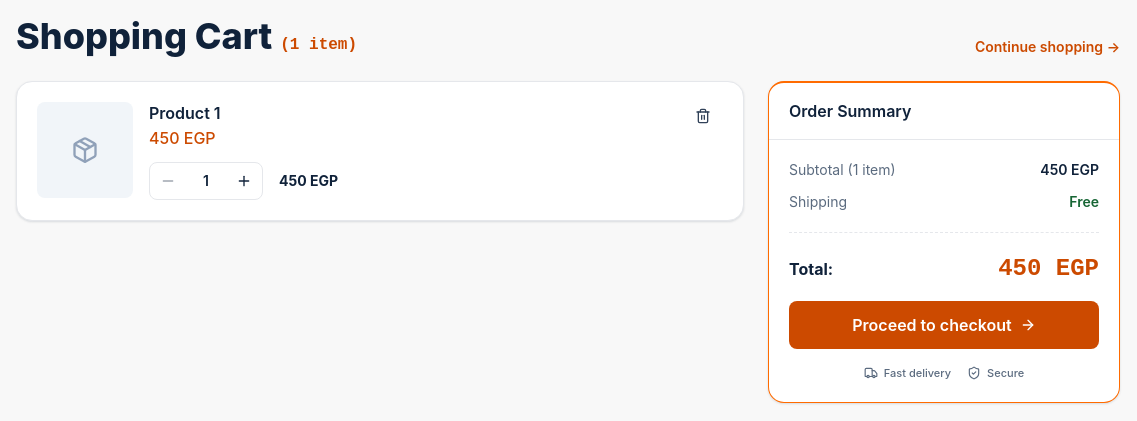
Cart page › adds one with the stepper, up to maxOrderable
This screenshot has width=1137, height=421.
Click the button named "increase quantity of product 1" at (244, 181), box [226,163,262,199]
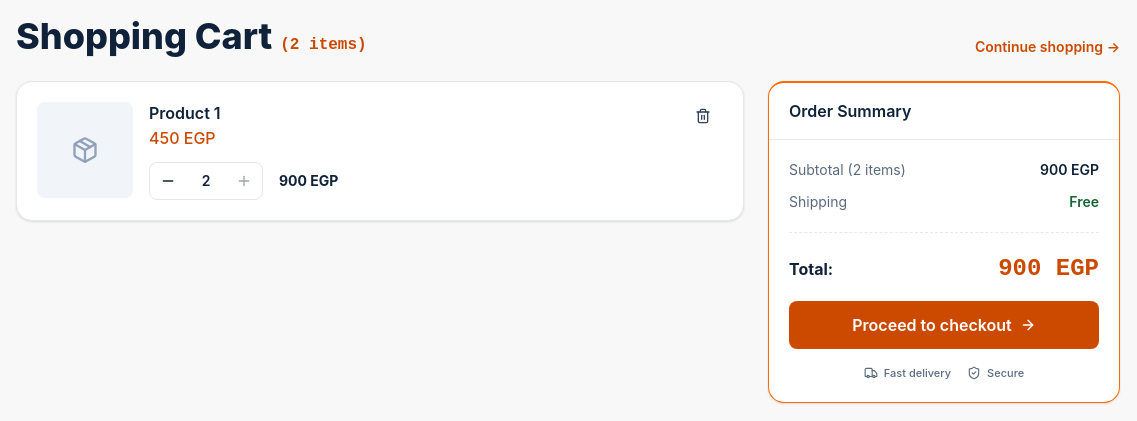
Expected: the heading "Shopping Cart (2 items)" is shown, [16,16,367,57]
Expected: the button named "increase quantity of product 1" is disabled, [226,163,262,199]
